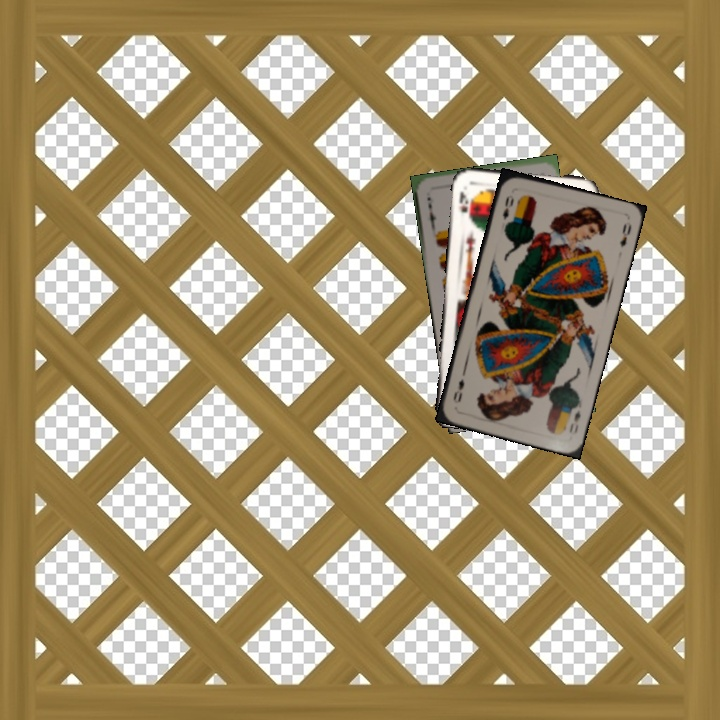E7: (423, 193, 439, 229)
EO: (498, 191, 516, 223), (565, 406, 583, 436)
SK: (455, 187, 474, 221)
